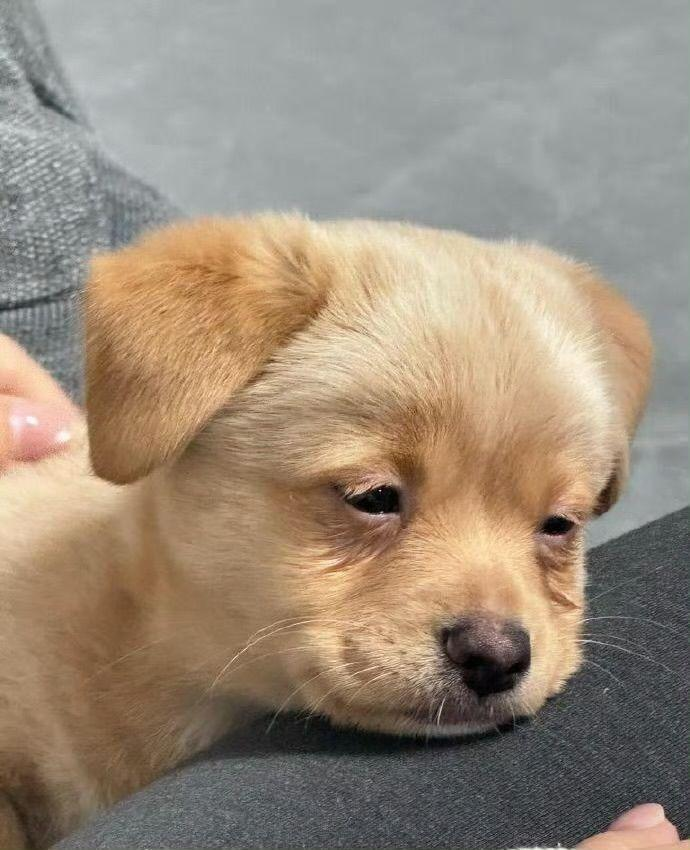puppy-dog: (1, 206, 660, 850)
